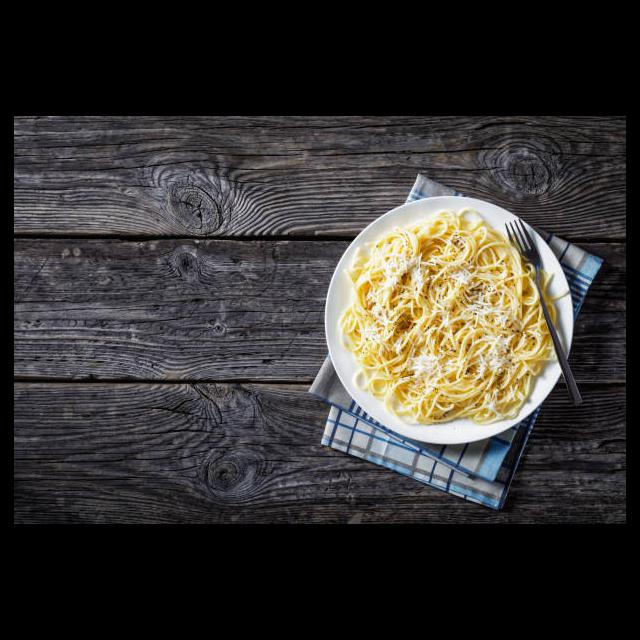noodles: (337, 206, 571, 427)
